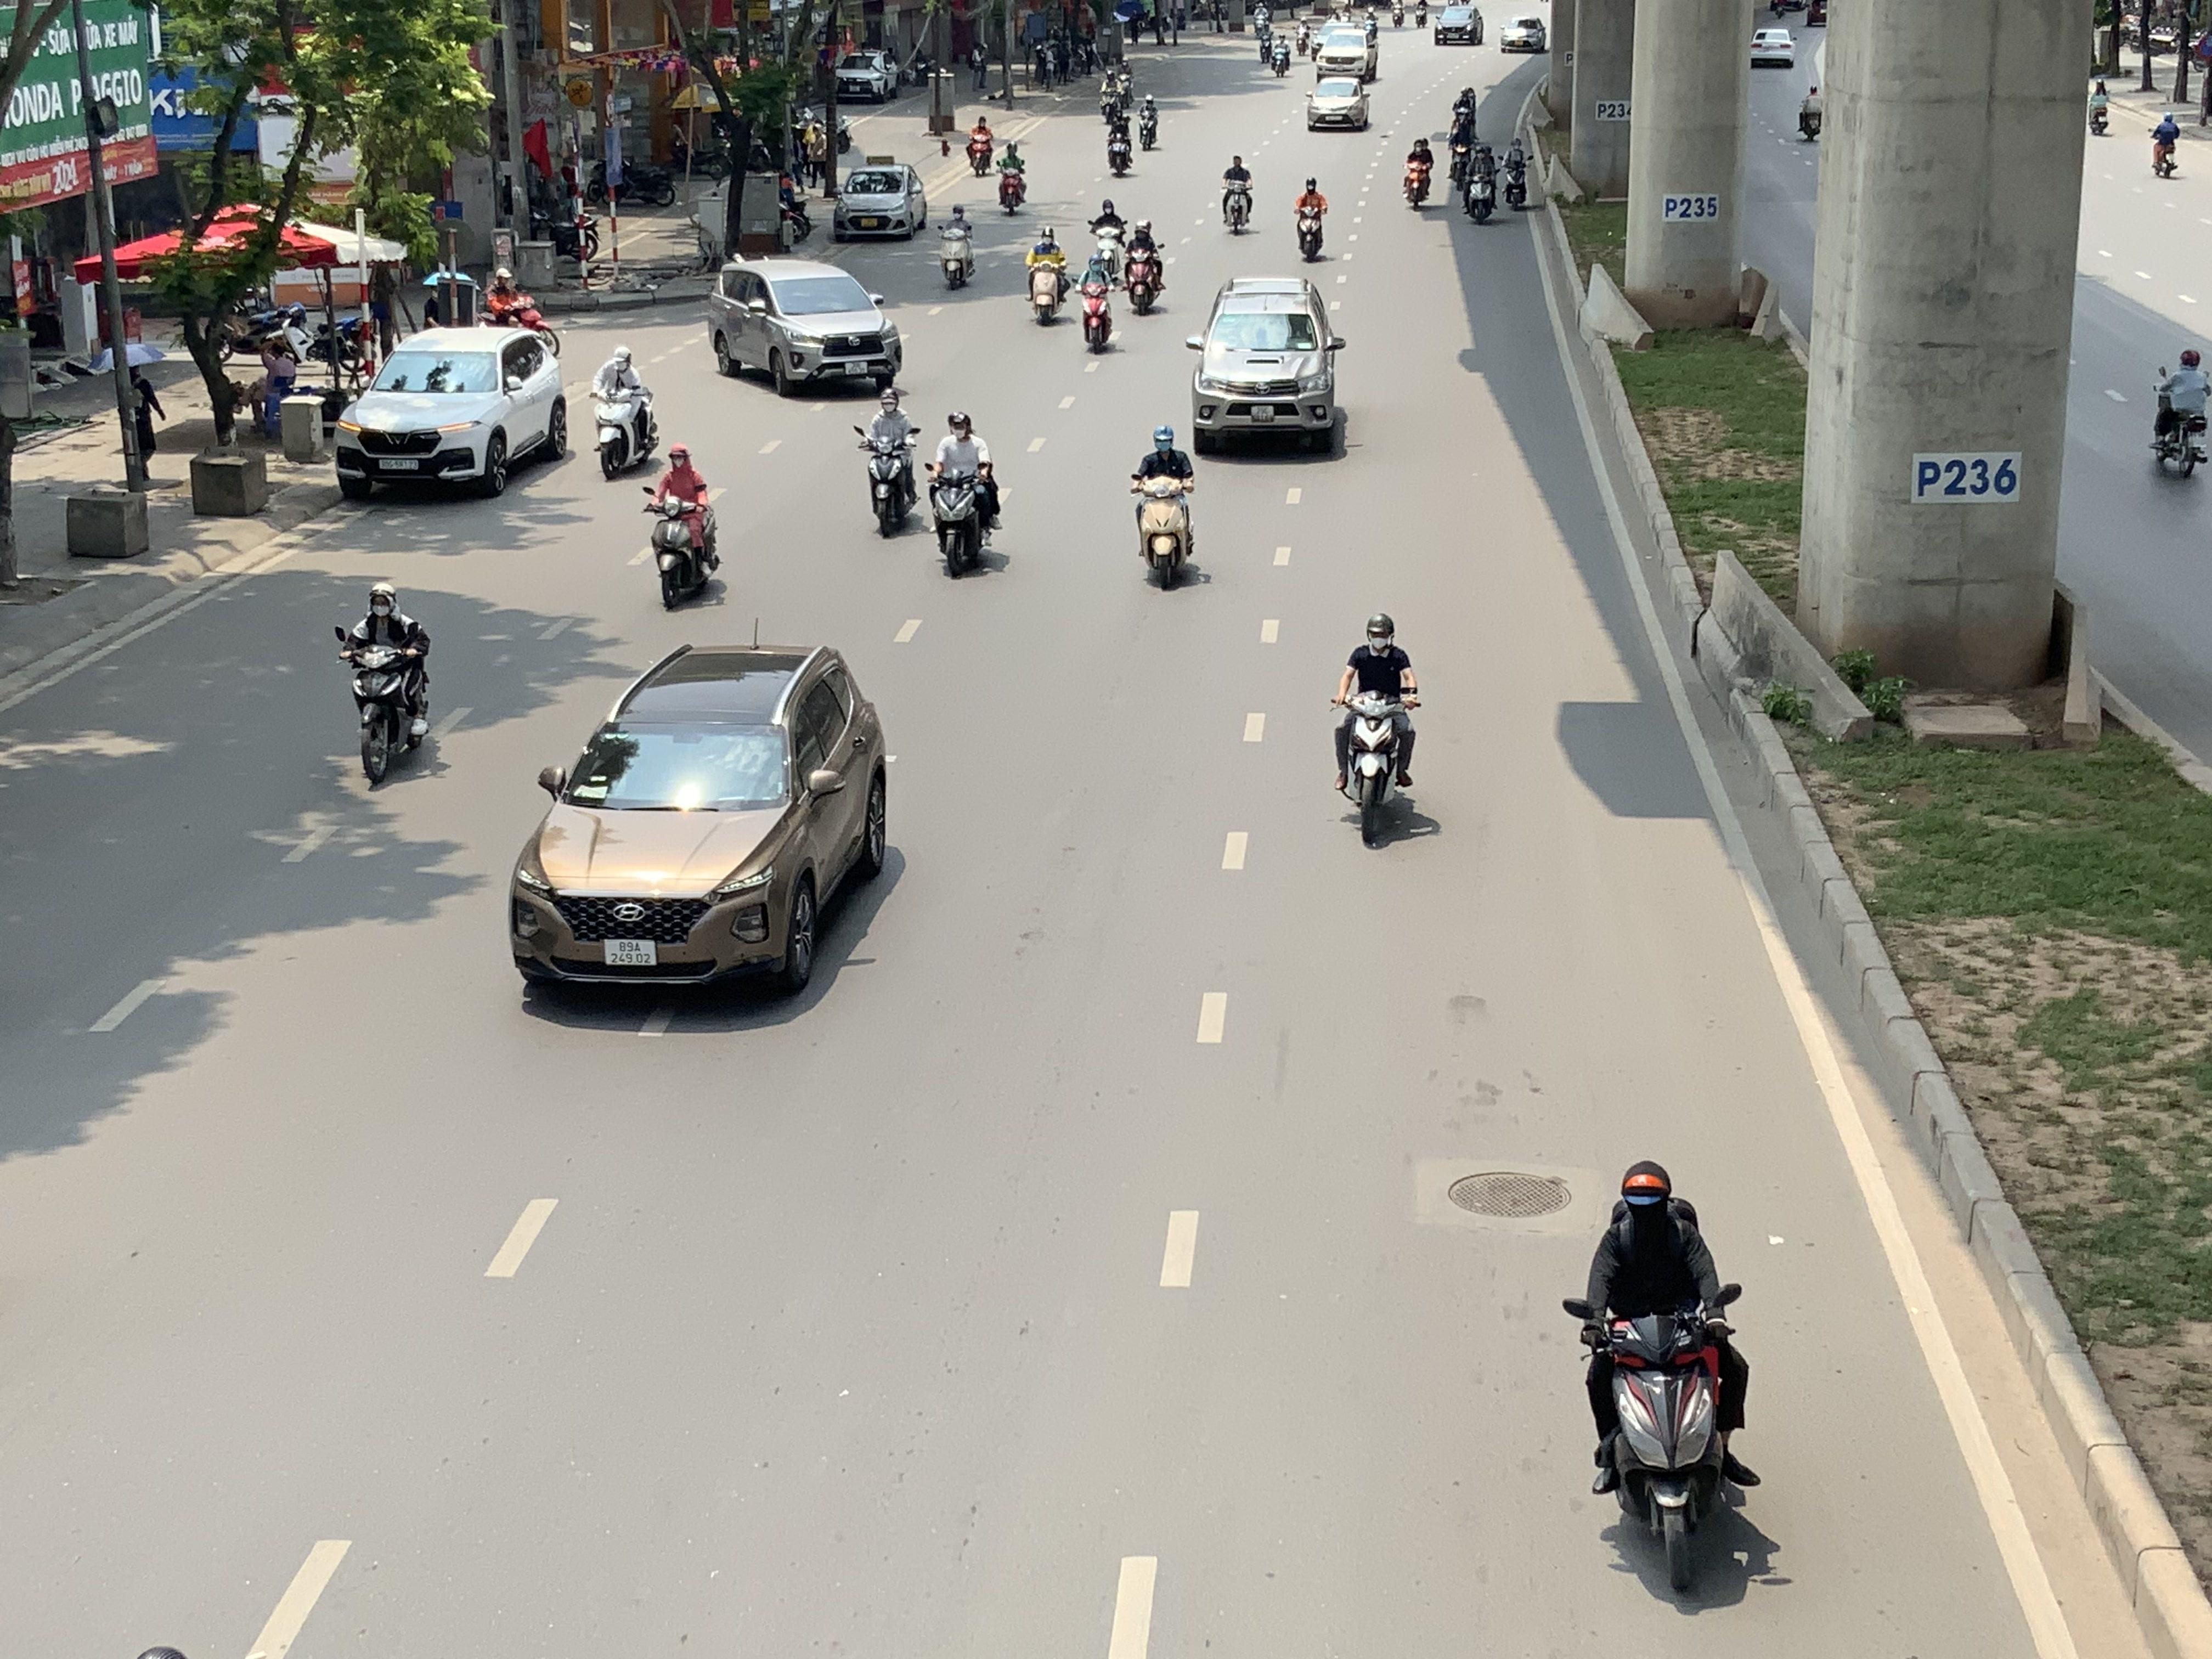BSD: (380, 458, 418, 472)
BSV: (604, 939, 657, 965)
car: (505, 641, 892, 1004), (333, 322, 570, 500), (1184, 275, 1348, 455), (705, 258, 904, 397), (831, 160, 928, 240), (1310, 23, 1378, 82), (833, 49, 900, 101), (1306, 77, 1371, 131), (1749, 23, 1796, 68), (1433, 7, 1484, 45), (1500, 14, 1548, 52)
motorbike: (1566, 1159, 1771, 1600), (1331, 613, 1421, 850), (340, 580, 435, 789), (644, 444, 723, 612), (928, 411, 1001, 580), (1130, 422, 1198, 591), (857, 389, 920, 538), (592, 347, 660, 479), (2151, 345, 2212, 481), (477, 270, 563, 359), (1024, 223, 1071, 326), (1076, 244, 1120, 354), (1122, 218, 1169, 315), (937, 200, 977, 291), (1089, 195, 1129, 277), (1292, 174, 1329, 261), (1461, 141, 1500, 223), (1219, 150, 1256, 235), (995, 138, 1029, 216), (1402, 132, 1435, 211), (1501, 129, 1533, 209), (1104, 103, 1136, 178), (2151, 108, 2182, 178), (963, 112, 995, 178), (1134, 87, 1160, 152), (1264, 23, 1292, 77)
